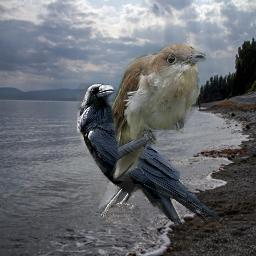Crow: (77, 83, 225, 224)
Cuckoo: (109, 42, 206, 181)
